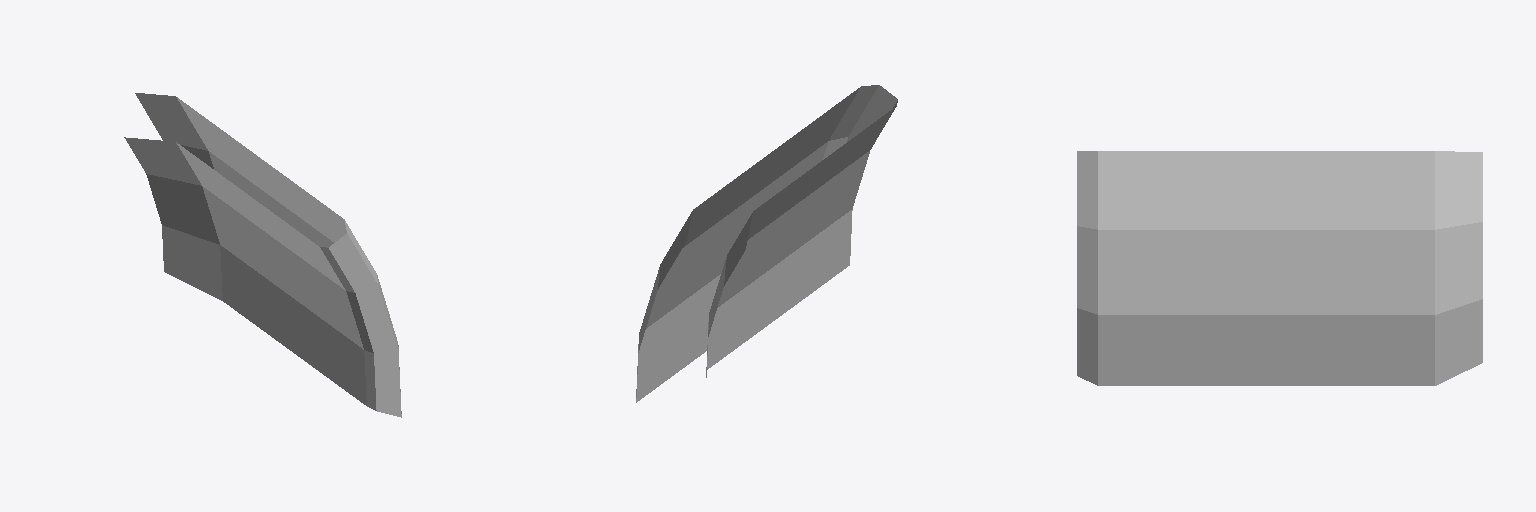
The model's file is basket007.obj.
3 renders of one model, left to right at view 1: azimuth 30°, elevation 25°; view 2: azimuth 150°, elevation 25°; view 3: azimuth 270°, elevation 25°, orthographic.
Parts seen in each view (by area): view 1: basket.007; view 2: basket.007; view 3: basket.007.
Part boxes in pixels (bbox=[...]): basket.007: bbox=[124, 93, 401, 417]; basket.007: bbox=[636, 85, 897, 402]; basket.007: bbox=[1077, 151, 1482, 385].
Bounding box in the file's own units: 0.05 × 0.0906 × 0.1605.